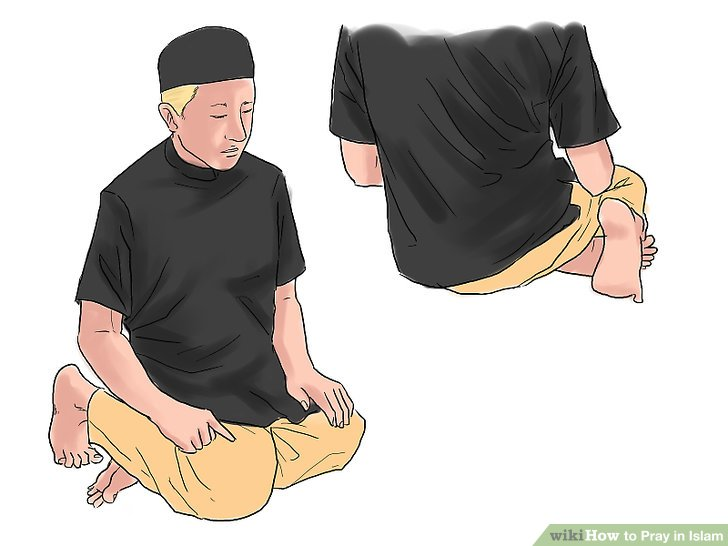sitting: (49, 27, 364, 521)
